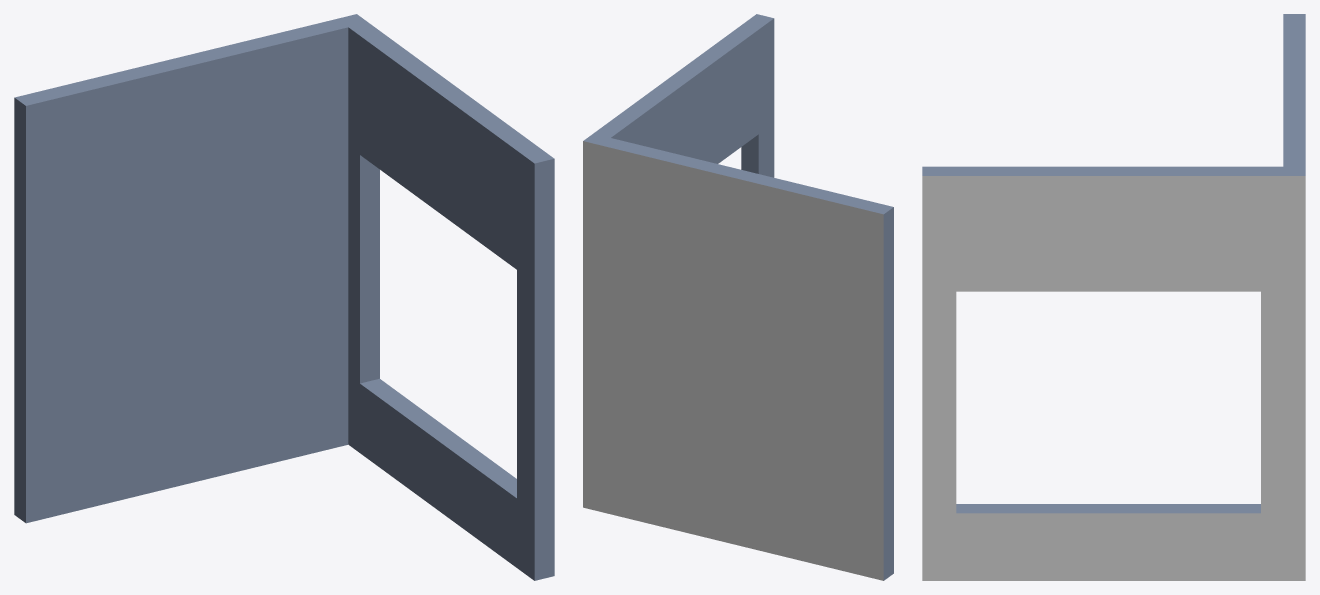
The model's file is Wall1_C3_14.fbx.
3 views of the same model, side by side, from view 1: azimuth 30°, elevation 25°; view 2: azimuth 150°, elevation 25°; view 3: azimuth 270°, elevation 25° (orthographic). The views are drawn at different scales.
Parts seen in each view (by area): view 1: Wall1_C3_14; view 2: Wall1_C3_14; view 3: Wall1_C3_14.
Boxes of the visible parts, <box> form: Wall1_C3_14: <box>14,14,554,580</box>; Wall1_C3_14: <box>583,14,893,580</box>; Wall1_C3_14: <box>922,14,1305,580</box>.
Size of the model in its own units: 258 by 300 by 258.
